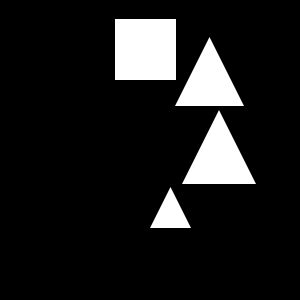circle: (115, 19, 176, 80)
triangle: (182, 110, 256, 184), (175, 37, 244, 106), (150, 187, 191, 228)
